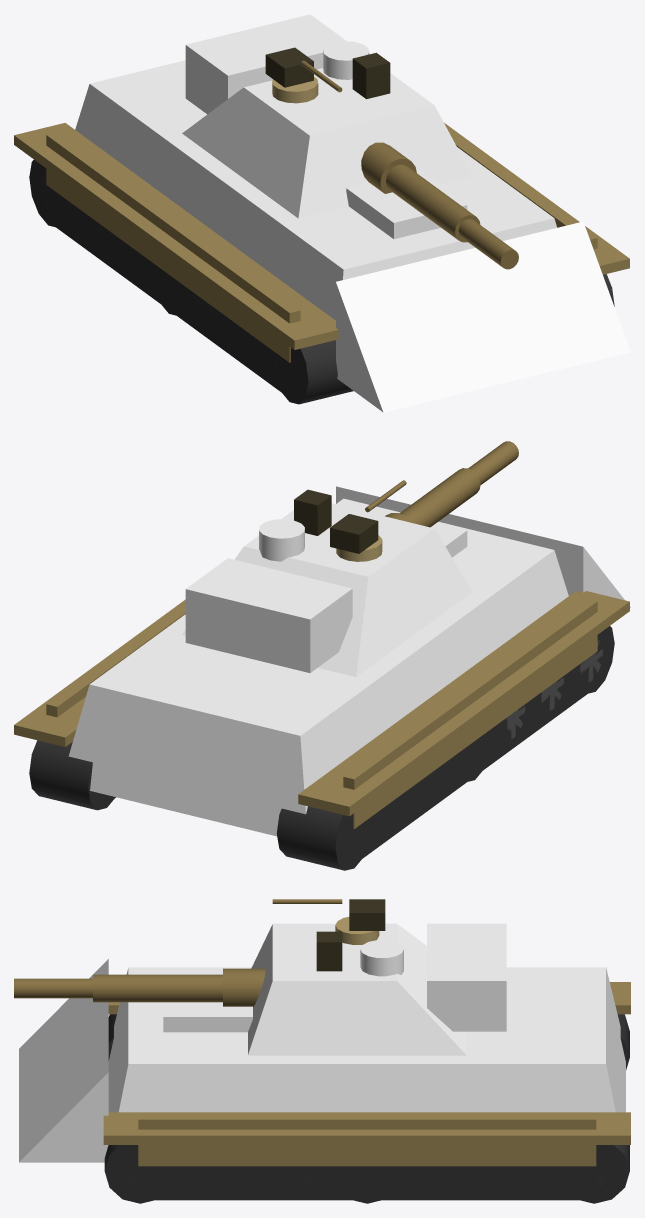
Rendered from abrams_1.glb.
3 views of the same model, one above another, from view 1: azimuth 30°, elevation 25°; view 2: azimuth 150°, elevation 25°; view 3: azimuth 270°, elevation 25° (orthographic). The views are drawn at different scales.
Parts seen in each view (by area): view 1: 车首斜板, 车体, 炮塔.001, 左挡泥板, 左侧裙板, 左履带, 尾部储物篮, 左主动轮.002, 驾驶舱凸起, 热护套, 右侧裙板, 车长瞄准镜 (+7 smaller); view 2: 车体, 炮塔.001, 尾部储物篮, 左挡泥板, 左侧裙板, 左履带, 左主动轮.001, 车首斜板, 右主动轮.001, 右挡泥板, 热护套, 右侧裙板 (+6 smaller); view 3: 车体, 炮塔.001, 右侧裙板, 右履带, 车首斜板, 右挡泥板, 尾部储物篮, 热护套, 右主动轮.001, 右主动轮.002, 驾驶舱凸起, 右主动轮 (+7 smaller).
Part boxes in pixels (box(x1,y1,x2,y2)): 车首斜板: box(336, 221, 630, 412); 车体: box(75, 60, 556, 320); 炮塔.001: box(182, 68, 472, 218); 左挡泥板: box(14, 123, 338, 349); 左侧裙板: box(46, 132, 300, 362); 左履带: box(48, 187, 289, 397); 尾部储物篮: box(185, 14, 346, 114); 左主动轮.002: box(272, 340, 353, 404); 驾驶舱凸起: box(346, 170, 467, 238); 热护套: box(386, 164, 480, 242); 右侧裙板: box(446, 127, 597, 249); 车长瞄准镜: box(352, 52, 390, 99); 车体: box(68, 498, 568, 836); 炮塔.001: box(182, 503, 472, 676); 尾部储物篮: box(185, 558, 352, 672); 左挡泥板: box(298, 591, 629, 816); 左侧裙板: box(343, 598, 597, 828); 左履带: box(354, 666, 594, 863); 左主动轮.001: box(276, 806, 372, 870); 车首斜板: box(336, 486, 630, 607); 右主动轮.001: box(29, 740, 113, 810); 右挡泥板: box(14, 599, 185, 746); 热护套: box(399, 468, 480, 527); 右侧裙板: box(46, 602, 185, 717); 车体: box(108, 967, 625, 1112); 炮塔.001: box(248, 923, 466, 1055); 右侧裙板: box(138, 1114, 596, 1166); 右履带: box(140, 1166, 594, 1200); 车首斜板: box(19, 959, 108, 1162); 右挡泥板: box(103, 1112, 630, 1144); 尾部储物篮: box(427, 923, 506, 1031); 热护套: box(93, 974, 222, 1002); 右主动轮.001: box(559, 1145, 629, 1203); 右主动轮.002: box(104, 1145, 175, 1203); 驾驶舱凸起: box(163, 1002, 252, 1032); 右主动轮: box(332, 1166, 402, 1203).
Bounding box in the file's own units: 3.66 × 2.44 × 6.2.
